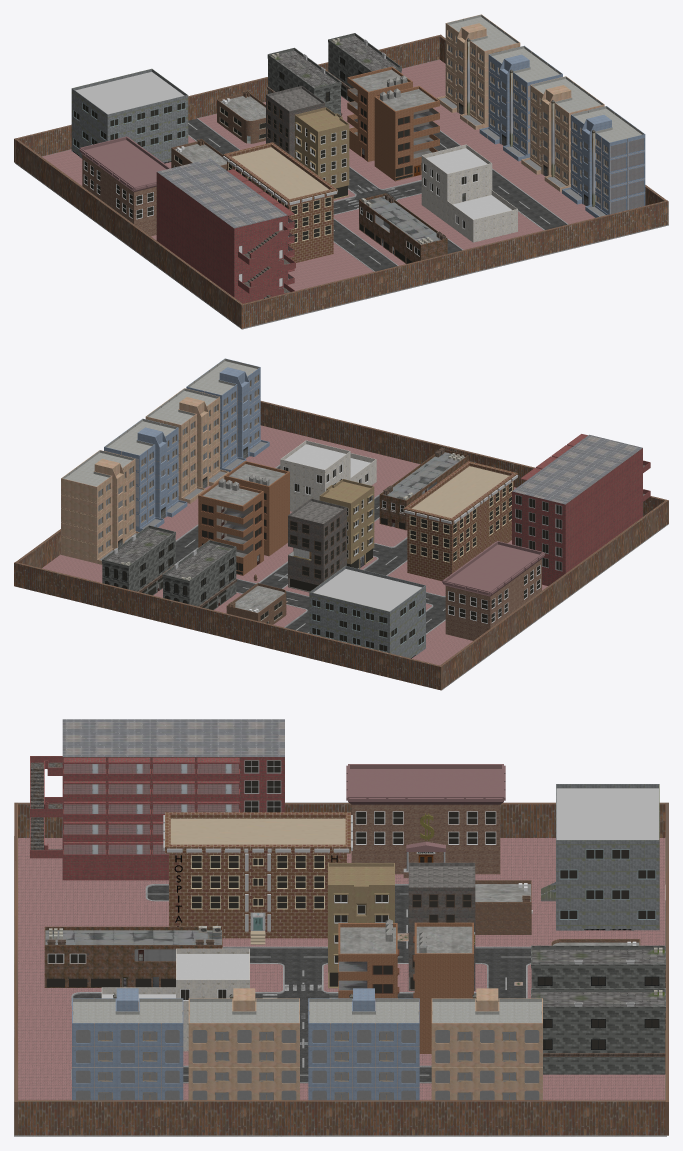
Rendered from city_physics_safe.glb.
3 views of the same model, one above another, from view 1: azimuth 30°, elevation 25°; view 2: azimuth 150°, elevation 25°; view 3: azimuth 270°, elevation 25° (orthographic). The views are drawn at different scales.
Parts seen in each view (by area): view 1: Plane, Cube.156, Cube.004, Cube.155, Cube.148, Cube.158, Cube.157, Cube.005, Cube.159, Cube.003, Build.001, Cube.001 (+10 smaller); view 2: Cube.156, Plane, Cube, Cube.157, Cube.155, Cube.003, Cube.159, Cube.005, Cube.004, Cube.001, Cube.002, Cube.148 (+10 smaller); view 3: Plane, Cube.156, Cube.006, Cube.157, Cube.159, Cube.155, Cube.002, Cube.003, Cube.148, Cube.001, Cube.010, Cube.153 (+11 smaller).
Part boxes in pixels (x1=…): Plane: x1=15, y1=59, x2=668, y2=329; Cube.156: x1=156, y1=158, x2=295, y2=303; Cube.004: x1=240, y1=200, x2=668, y2=328; Cube.155: x1=71, y1=68, x2=188, y2=163; Cube.148: x1=562, y1=106, x2=645, y2=217; Cube.158: x1=421, y1=144, x2=517, y2=242; Cube.157: x1=223, y1=142, x2=337, y2=262; Cube.005: x1=15, y1=139, x2=243, y2=326; Cube.159: x1=79, y1=136, x2=170, y2=236; Cube.003: x1=437, y1=14, x2=520, y2=129; Build.001: x1=374, y1=86, x2=439, y2=181; Cube.001: x1=479, y1=45, x2=562, y2=161; Cube.156: x1=512, y1=434, x2=650, y2=585; Plane: x1=42, y1=425, x2=668, y2=690; Cube: x1=14, y1=562, x2=442, y2=690; Cube.157: x1=403, y1=461, x2=517, y2=581; Cube.155: x1=309, y1=566, x2=425, y2=658; Cube.003: x1=61, y1=450, x2=138, y2=564; Cube.159: x1=442, y1=541, x2=544, y2=640; Cube.005: x1=440, y1=500, x2=667, y2=688; Cube.004: x1=260, y1=401, x2=668, y2=524; Cube.001: x1=104, y1=418, x2=187, y2=531; Cube.002: x1=145, y1=388, x2=228, y2=503; Cube.148: x1=186, y1=358, x2=269, y2=472; Plane: x1=14, y1=836, x2=666, y2=1136; Cube.156: x1=30, y1=719, x2=284, y2=880; Cube.006: x1=18, y1=1100, x2=665, y2=1135; Cube.157: x1=163, y1=812, x2=352, y2=944; Cube.159: x1=346, y1=764, x2=505, y2=877; Cube.155: x1=541, y1=784, x2=659, y2=930; Cube.002: x1=188, y1=988, x2=299, y2=1100; Cube.003: x1=431, y1=988, x2=542, y2=1100; Cube.148: x1=72, y1=988, x2=183, y2=1100; Cube.001: x1=308, y1=988, x2=419, y2=1100; Cube.010: x1=531, y1=988, x2=665, y2=1074; Cube.153: x1=44, y1=926, x2=222, y2=987.
Bounding box in the file's own units: 95.54 × 18.5 × 88.29.
Materials: 82 (76 with a texture image).
